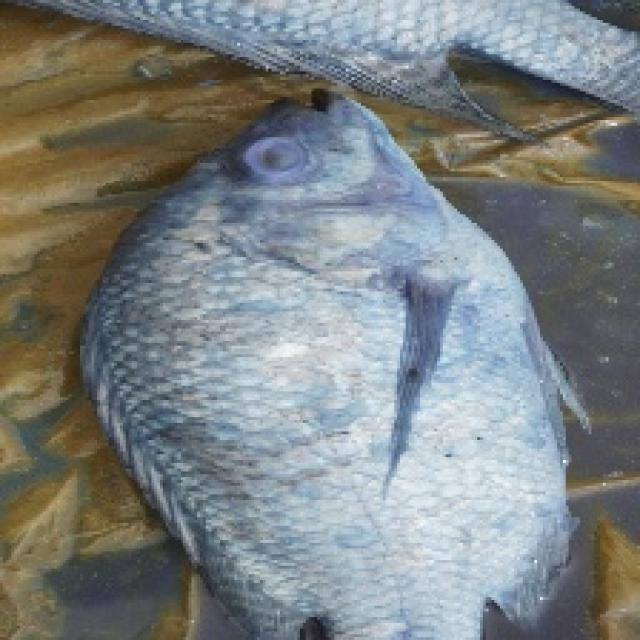Non-Fresh: (74, 78, 624, 640)
